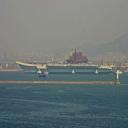Portanaves: (16, 48, 114, 77)
